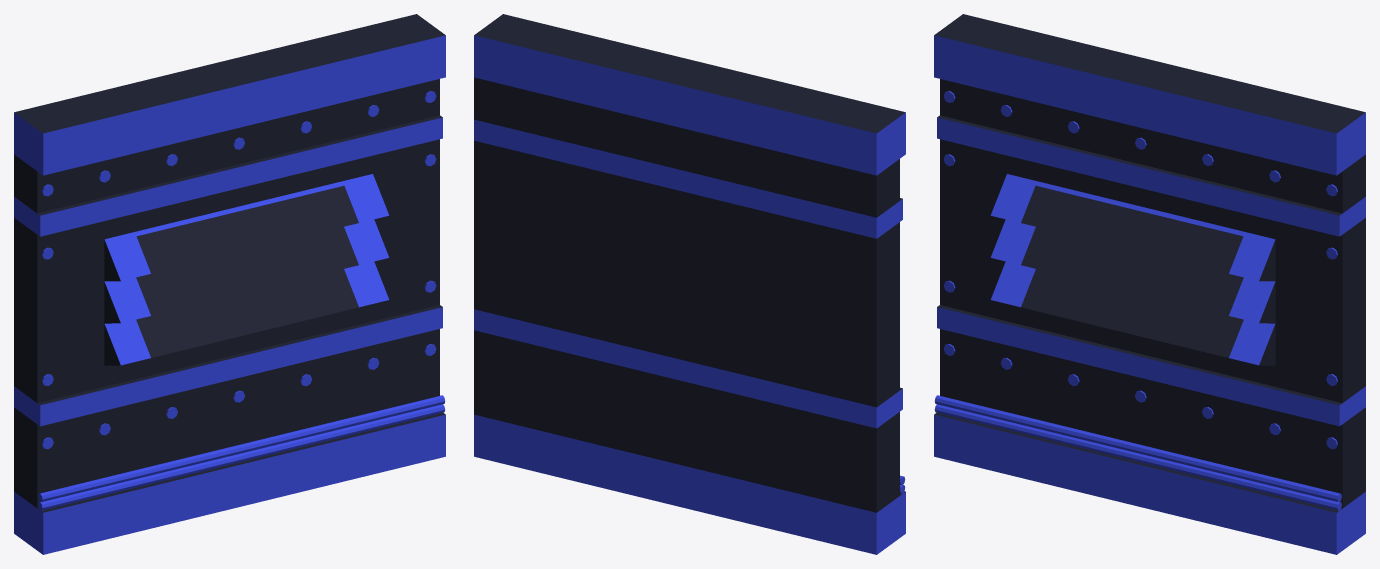
File: Wall_F.fbx
3 views of the same model, side by side, from view 1: azimuth 30°, elevation 25°; view 2: azimuth 150°, elevation 25°; view 3: azimuth 330°, elevation 25° (orthographic).
Parts seen in each view (by area): view 1: Wall_F; view 2: Wall_F; view 3: Wall_F.
Boxes of the visible parts, x1,y1,x2,y2 form: Wall_F: [14, 14, 445, 554]; Wall_F: [474, 14, 905, 554]; Wall_F: [934, 14, 1365, 554].
Bounding box in the file's own units: 200 × 200 × 34.14.
